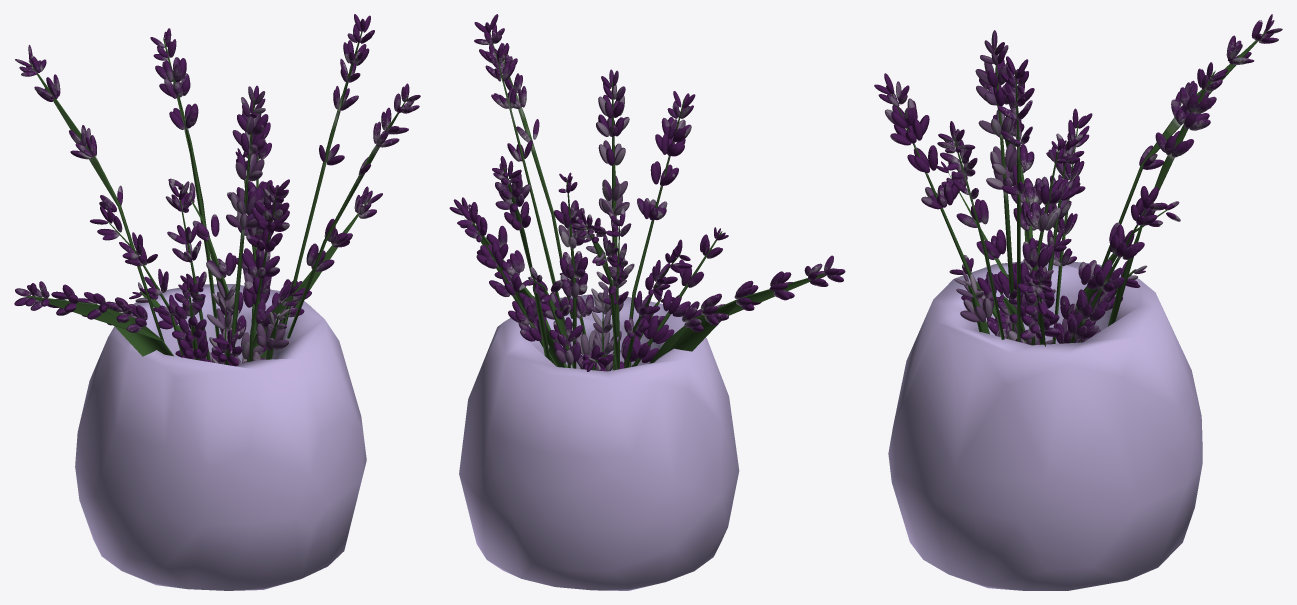
The picture shows the model from 3 angles, left to right: view 1: azimuth 30°, elevation 25°; view 2: azimuth 150°, elevation 25°; view 3: azimuth 270°, elevation 25°; orthographic projection. The views are drawn at different scales.
Parts seen in each view (by area): view 1: g (×7); view 2: g (×8); view 3: g (×6).
Boxes of the visible parts, x1,y1,x2,y2 form: g (×7): [26, 30, 407, 590]; g (×8): [459, 33, 825, 590]; g (×6): [888, 28, 1269, 590].
Size of the model in its own units: 0.3577 by 0.4482 by 0.3024.
3 materials, 2 textured.
